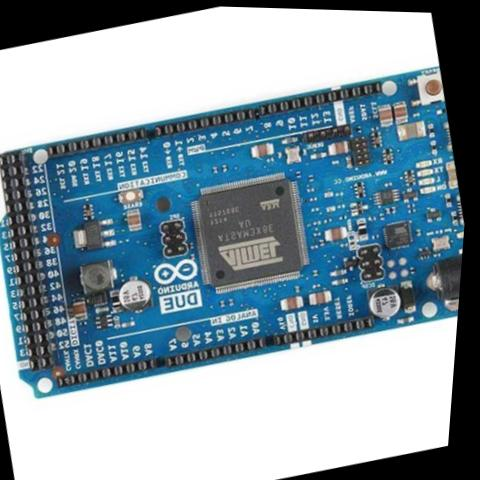Arduino-Due: (0, 31, 478, 430)
